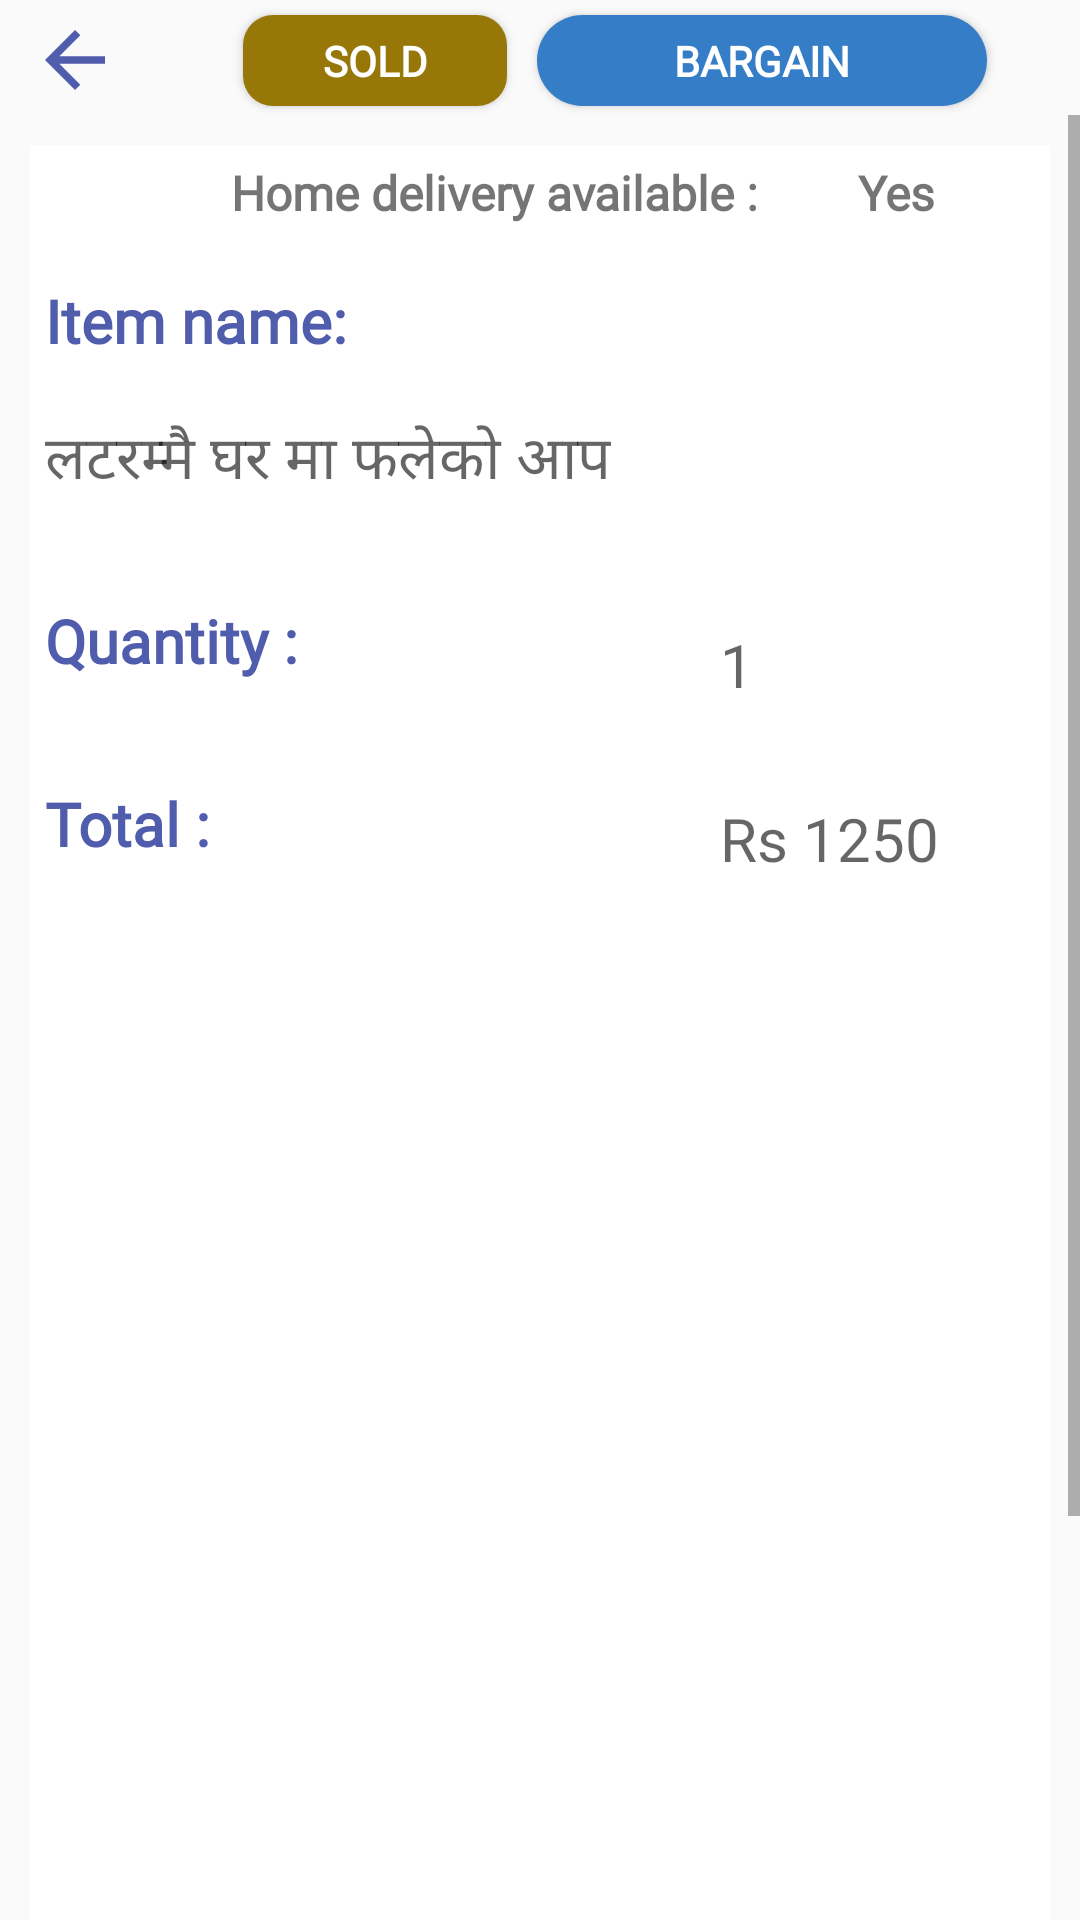

Where icons sit on this 1080 × 1920 app screen, as region(x1, y1, x2, y2):
backarrow: region(45, 30, 105, 90)
